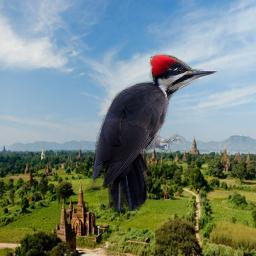Woodpecker: (86, 53, 220, 211)
